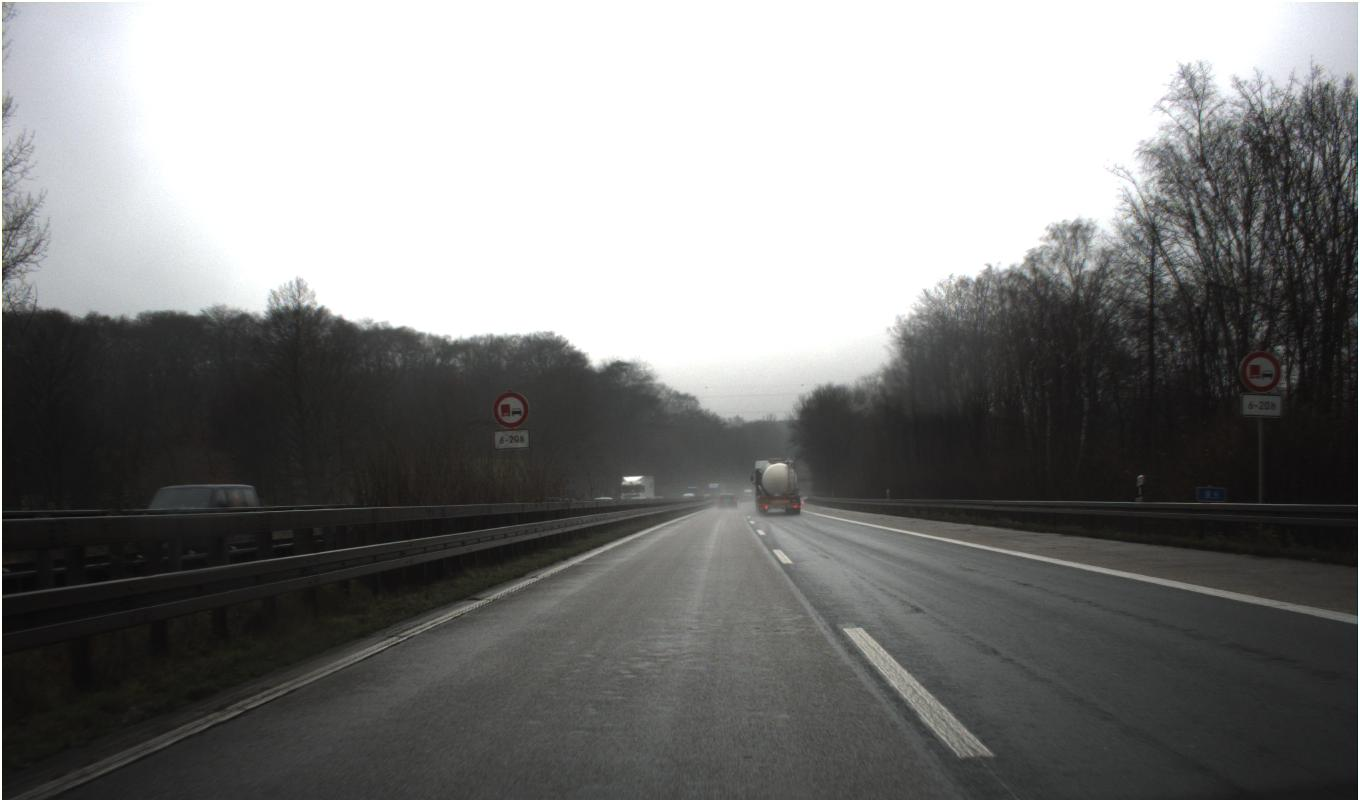prohibitory: (1238, 349, 1282, 394), (491, 390, 530, 429)
